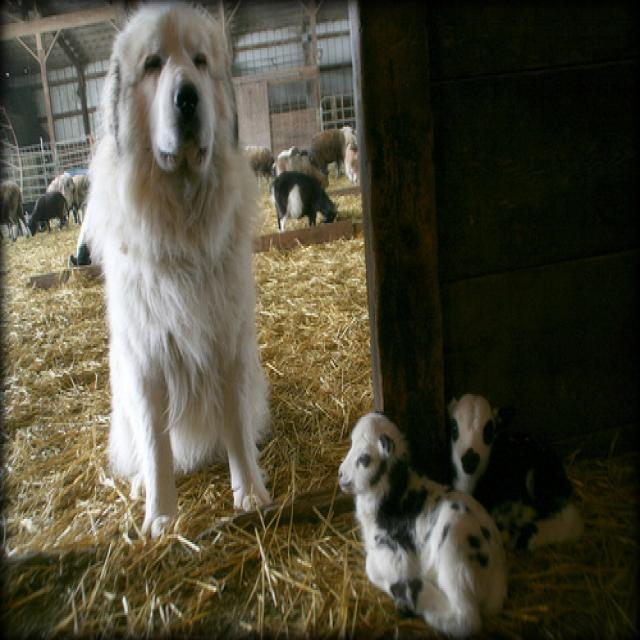dog-great_pyrenees: (72, 2, 282, 552)
